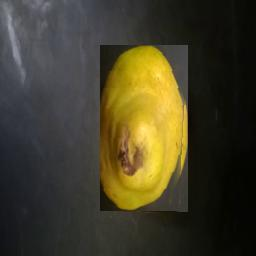Pear Semifresh: (100, 46, 188, 213)
